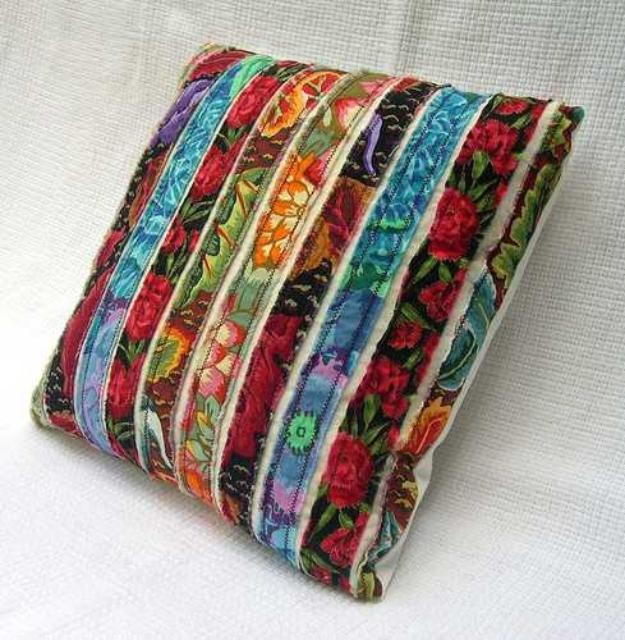pillow: (29, 40, 585, 602)
